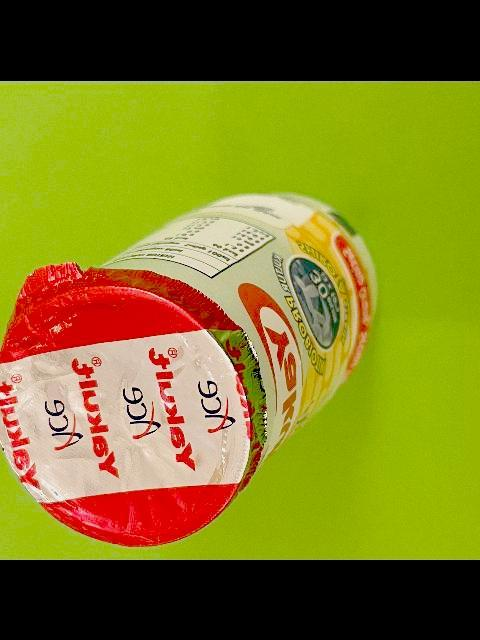plasticbottle: (0, 190, 382, 547)
